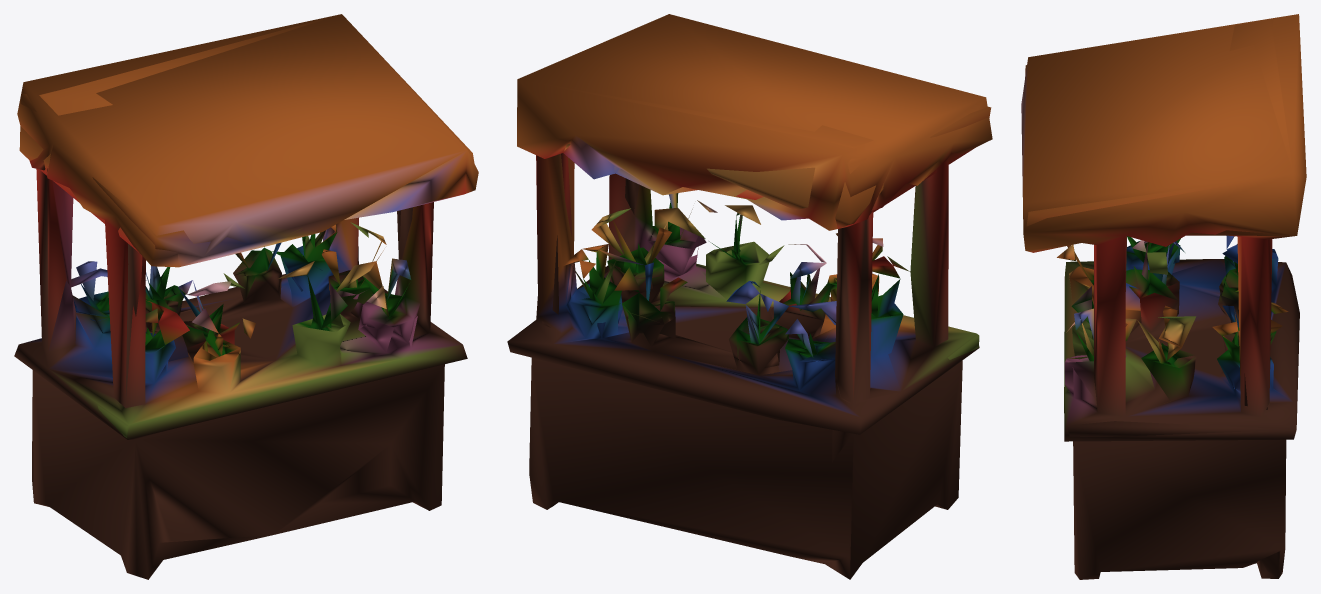
Rendered from gen3d-flower-stall-lod1.glb.
3 renders of one model, left to right at view 1: azimuth 30°, elevation 25°; view 2: azimuth 150°, elevation 25°; view 3: azimuth 270°, elevation 25°, orthographic. The views are drawn at different scales.
Parts seen in each view (by area): view 1: part_0; view 2: part_0; view 3: part_0.
Boxes of the visible parts, bbox=[...] form: part_0: bbox=[14, 14, 478, 579]; part_0: bbox=[507, 14, 992, 579]; part_0: bbox=[1021, 14, 1306, 579].
Bounding box in the file's own units: 0.852 × 0.9982 × 0.6181.
